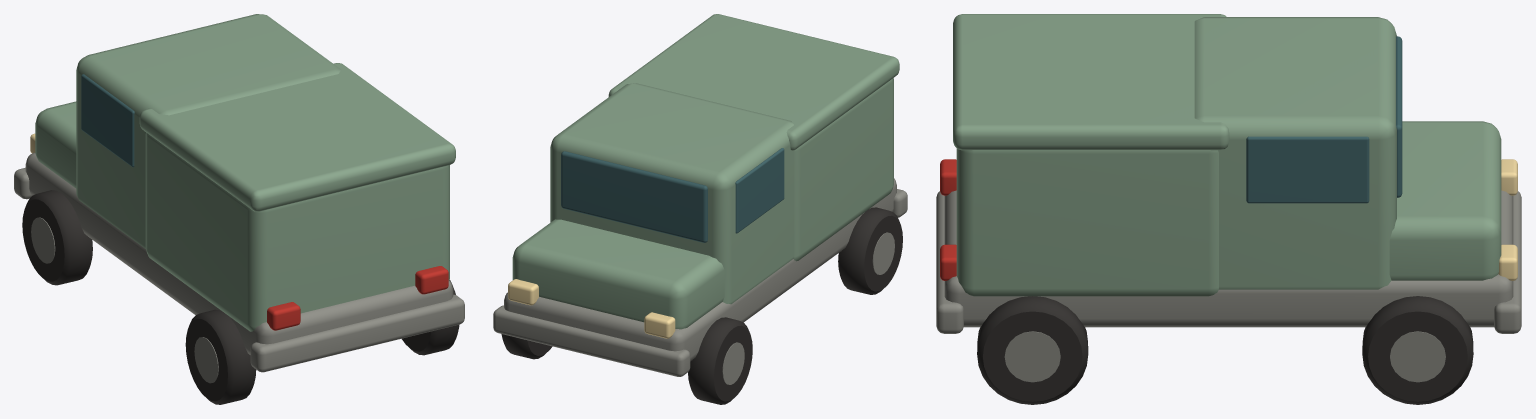
File: archive-truck.glb
3 views of the same model, side by side, from view 1: azimuth 30°, elevation 25°; view 2: azimuth 150°, elevation 25°; view 3: azimuth 270°, elevation 25° (orthographic). The views are drawn at different scales.
Parts seen in each view (by area): view 1: Archive utility paint, Wheel steel and bumpers, Rubber tyres, Window glass, Tail lamp; view 2: Archive utility paint, Wheel steel and bumpers, Window glass, Rubber tyres, Head lamp; view 3: Archive utility paint, Wheel steel and bumpers, Rubber tyres, Window glass, Head lamp, Tail lamp.
Boxes of the visible parts, <box> form: Archive utility paint: <box>35,14,455,331</box>; Wheel steel and bumpers: <box>14,152,464,383</box>; Rubber tyres: <box>22,190,459,404</box>; Window glass: <box>81,74,134,167</box>; Tail lamp: <box>267,266,448,330</box>; Archive utility paint: <box>512,14,899,329</box>; Wheel steel and bumpers: <box>493,178,907,384</box>; Window glass: <box>561,148,784,242</box>; Rubber tyres: <box>501,207,902,404</box>; Head lamp: <box>508,279,675,338</box>; Archive utility paint: <box>953,14,1501,296</box>; Wheel steel and bumpers: <box>936,190,1521,382</box>; Rubber tyres: <box>977,296,1473,404</box>; Window glass: <box>1246,36,1402,203</box>; Head lamp: <box>1498,159,1517,280</box>; Tail lamp: <box>940,159,956,280</box>.
Size of the model in its own units: 1.73 by 1.64 by 3.19.
